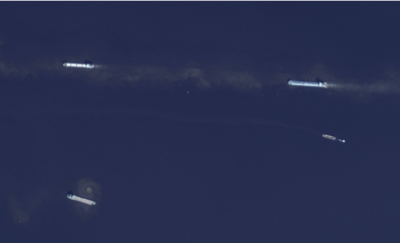boat: (67, 193, 97, 205), (288, 80, 327, 88), (63, 62, 95, 68), (322, 134, 336, 139), (339, 139, 346, 142), (187, 91, 189, 93)
